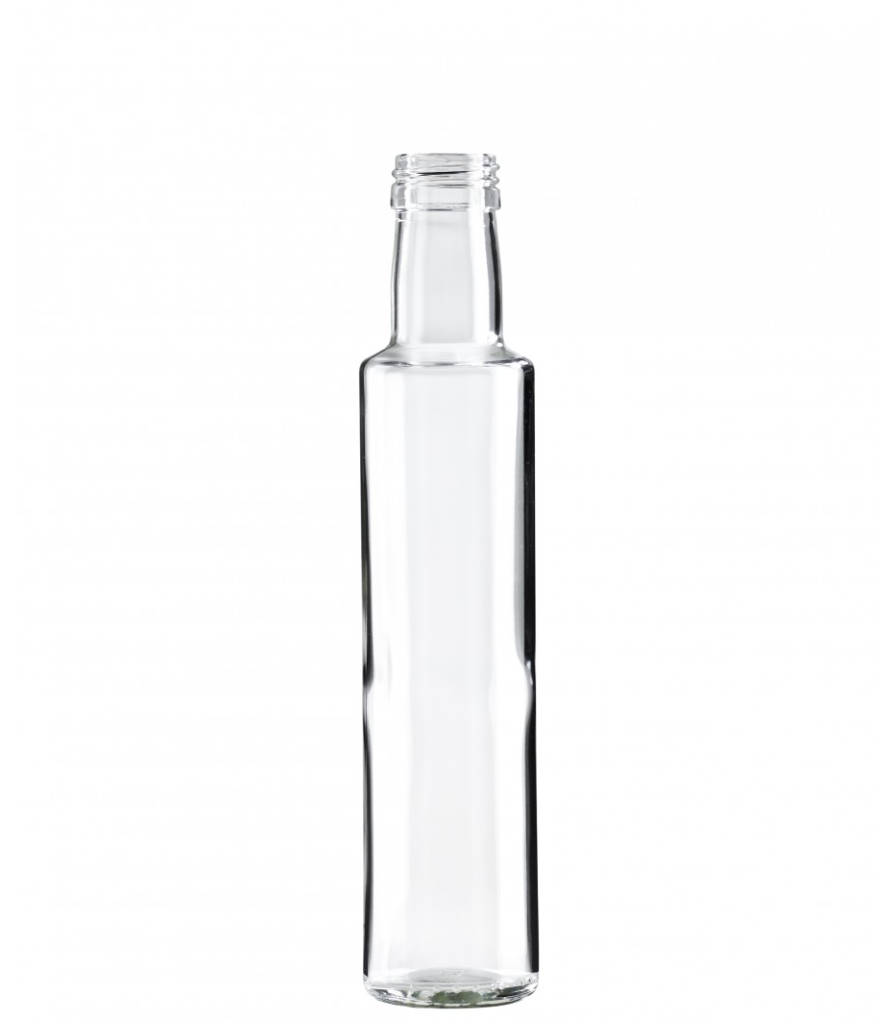emptybottle: (358, 155, 541, 1005)
